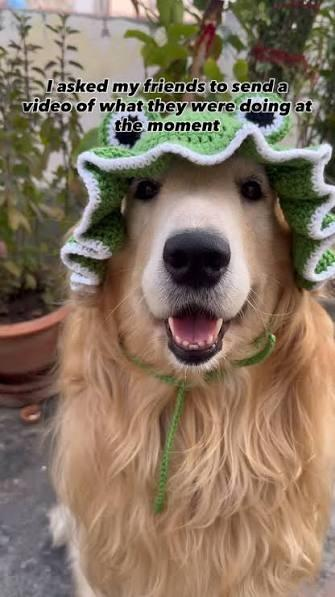adult_dog: (44, 102, 335, 597)
